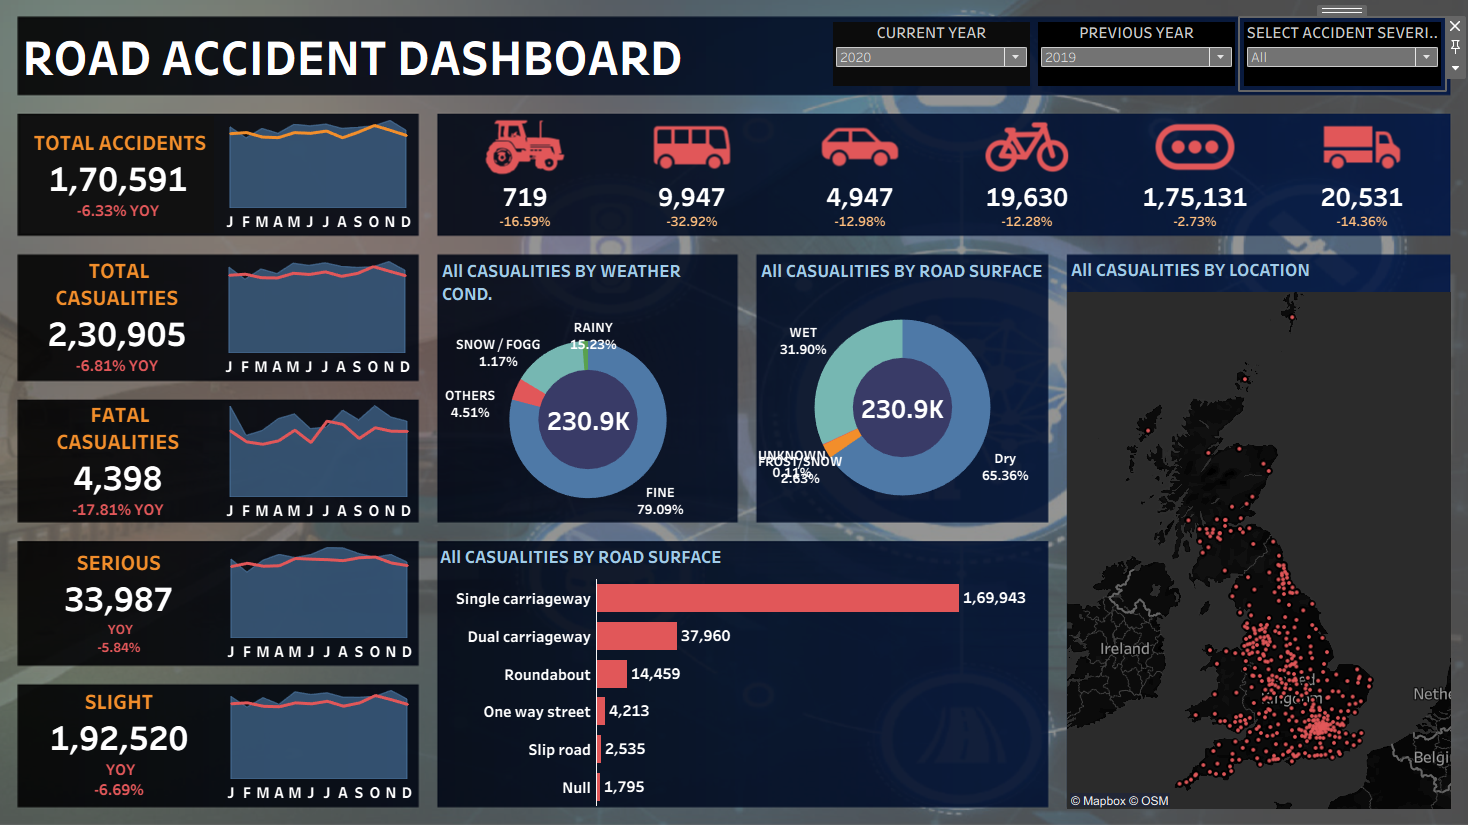

The dashboard page shown, as its layout file describes it:
{"tool":"tableau","page":{"name":"Dashboard 1","canvas":[1000,1000],"units":"permille","ordinal":0},"visuals":[{"type":"image","param":"Image/Background.pptx (1).png","box":[4.8,9.4,990.3,981.2]},{"type":"text","box":[67.6,34.1,408.6,94]},{"type":"parameter","param":"[Parameters].[Parameter 0739183298416642]","box":[556.4,36.4,123.9,84.6]},{"type":"parameter","param":"[Parameters].[CURRENT YEAR (copy)_0739183298842627]","box":[680.4,36.4,123.9,84.6]},{"type":"parameter","param":"[Parameters].[Parameter 1302683715870720]","box":[804.3,36.4,123.9,84.6]},{"type":"worksheet","title":"TOTAL ACCIDENTS","mark":"Automatic","box":[66.4,146.9,121.3,146.9]},{"type":"worksheet","title":"ACCIDENT SPARKLINE","mark":"Automatic","rows":["CY ACCIDENT (copy)_0739183299936265","Calculation_0739183299239944"],"cols":["Accident Date"],"box":[187.7,146.9,120.7,146.9]},{"type":"worksheet","title":"VEHICLE TYPE IMAGES","mark":"Shape","box":[319.9,148.1,611.4,75.2]},{"type":"worksheet","title":"VERTICAL TYPE KPI","mark":"Automatic","box":[319.9,223.3,611.4,69.3]},{"type":"worksheet","title":"TOTAL CASUALITIES","mark":"Automatic","box":[65.8,312.6,121.3,151.6]},{"type":"worksheet","title":"TOTAL CASUALITIES SPARKLINE","mark":"Automatic","rows":["CY CASUALITIES (copy)_0739183308509196","Calculation_0739183307902987"],"cols":["Accident Date"],"box":[187.1,312.6,120.7,151.6]},{"type":"worksheet","title":"BY LOCATION","mark":"Automatic","rows":["Latitude"],"cols":["Longitude"],"box":[700.1,313.8,231.7,652.2]},{"type":"worksheet","title":"weather condition","mark":"Pie","rows":["Calculation_1302683736666117","Calculation_1302683736715271"],"box":[320.5,314.9,181.1,314.9]},{"type":"worksheet","title":"ROAD SURFACE","mark":"Pie","rows":["Calculation_1302683736666117","Calculation_1302683736715271"],"box":[513,314.9,175.6,313.8]},{"type":"worksheet","title":"FATAL CASUALITIES","mark":"Automatic","box":[66.4,481.8,121.3,151.6]},{"type":"worksheet","title":"FATAL SPARKLINE","mark":"Automatic","rows":["CY FATAL CASUALITIES  (copy)_0739183312285712","Calculation_0739183311704079"],"cols":["Accident Date"],"box":[187.7,481.8,121.3,151.6]},{"type":"worksheet","title":"SERIOUS CASUALITIES","mark":"Automatic","box":[67,648.6,121.3,150.4]},{"type":"worksheet","title":"SERIOUS SPARKLINE","mark":"Automatic","rows":["CY SERIOUS CASUALITIES (copy)_0739183313887251","CY FATAL CASUALITIES  (copy)_0739183313358866"],"cols":["Accident Date"],"box":[188.3,648.6,120.7,150.4]},{"type":"worksheet","title":"ROAD TYPE","mark":"Automatic","rows":["Road_Type"],"cols":["Calculation_0739183307902987"],"box":[319.2,651,369.3,311.4]},{"type":"worksheet","title":"SLIGHT CASUALITIES","mark":"Automatic","box":[67,816.7,121.3,148.1]},{"type":"worksheet","title":"SLIGHT SPARKLINE","mark":"Automatic","rows":["CY SLIGHT CASUALITIES   (copy)_0739183317078041","CY FATAL CASUALITIES  (copy)_0739183316652056"],"cols":["Accident Date"],"box":[188.3,816.7,120.7,148.1]}]}

Visuals, with their boxes on the dashboard's canvas, which has no fixed pixel size, in thousandths of its width and height (x1, y1, x2, y2). These are canvas units, not pixel positions in the 1468x825 screenshot, which may show the page scaled, cropped or inside an application window:
image: select_region(5, 9, 995, 991)
text: select_region(68, 34, 476, 128)
parameter: select_region(556, 36, 680, 121)
parameter: select_region(680, 36, 804, 121)
parameter: select_region(804, 36, 928, 121)
"TOTAL ACCIDENTS" worksheet: select_region(66, 147, 188, 294)
"ACCIDENT SPARKLINE" worksheet: select_region(188, 147, 308, 294)
"VEHICLE TYPE IMAGES" worksheet (Shape marks): select_region(320, 148, 931, 223)
"VERTICAL TYPE KPI" worksheet: select_region(320, 223, 931, 293)
"TOTAL CASUALITIES" worksheet: select_region(66, 313, 187, 464)
"TOTAL CASUALITIES SPARKLINE" worksheet: select_region(187, 313, 308, 464)
"BY LOCATION" worksheet: select_region(700, 314, 932, 966)
"weather condition" worksheet (Pie marks): select_region(320, 315, 502, 630)
"ROAD SURFACE" worksheet (Pie marks): select_region(513, 315, 689, 629)
"FATAL CASUALITIES" worksheet: select_region(66, 482, 188, 633)
"FATAL SPARKLINE" worksheet: select_region(188, 482, 309, 633)
"SERIOUS CASUALITIES" worksheet: select_region(67, 649, 188, 799)
"SERIOUS SPARKLINE" worksheet: select_region(188, 649, 309, 799)
"ROAD TYPE" worksheet: select_region(319, 651, 688, 962)
"SLIGHT CASUALITIES" worksheet: select_region(67, 817, 188, 965)
"SLIGHT SPARKLINE" worksheet: select_region(188, 817, 309, 965)
